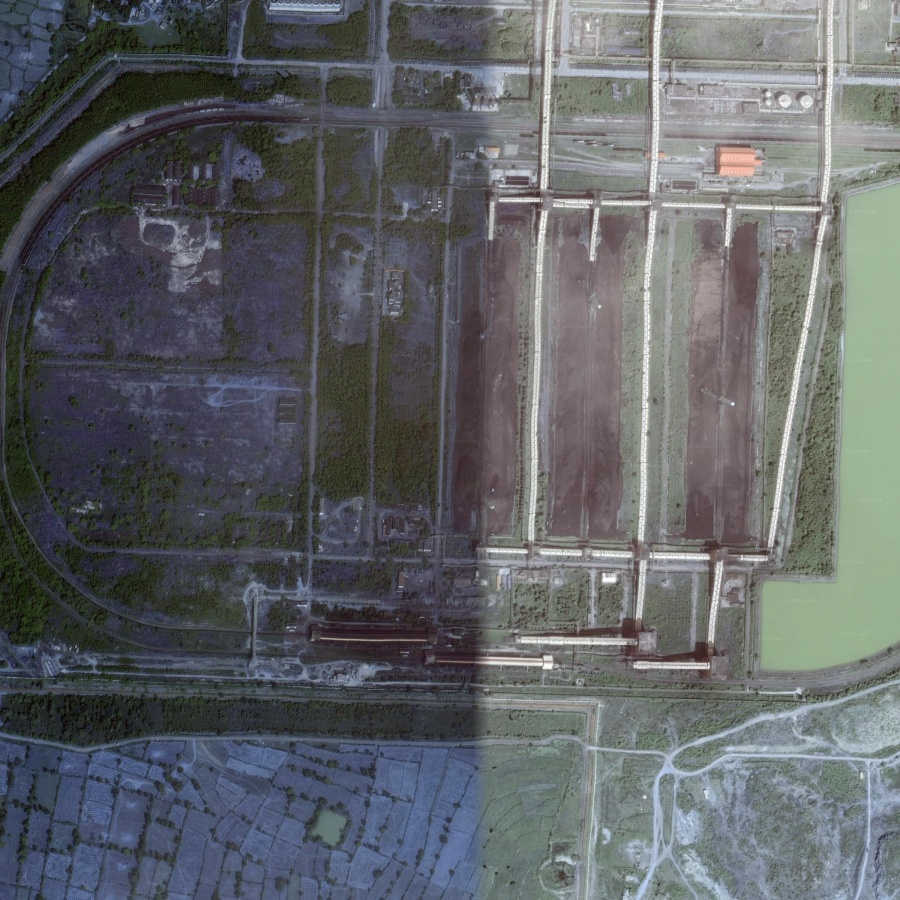PowerPlant: (442, 179, 801, 574)
